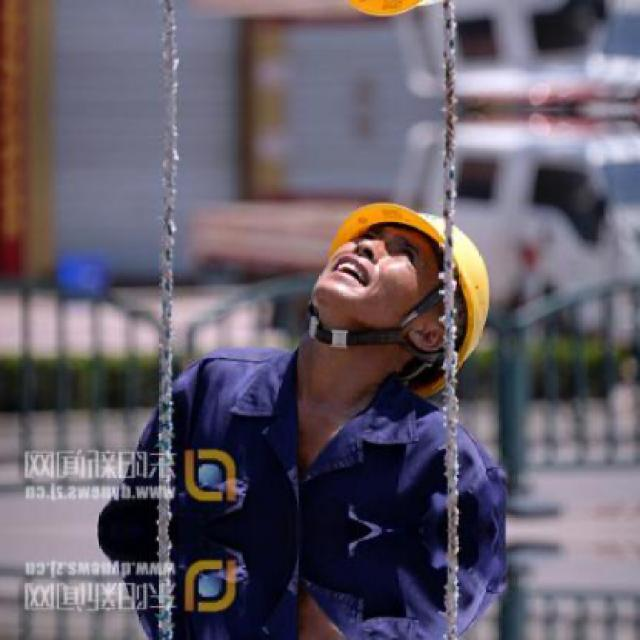helmet: (303, 185, 474, 367)
